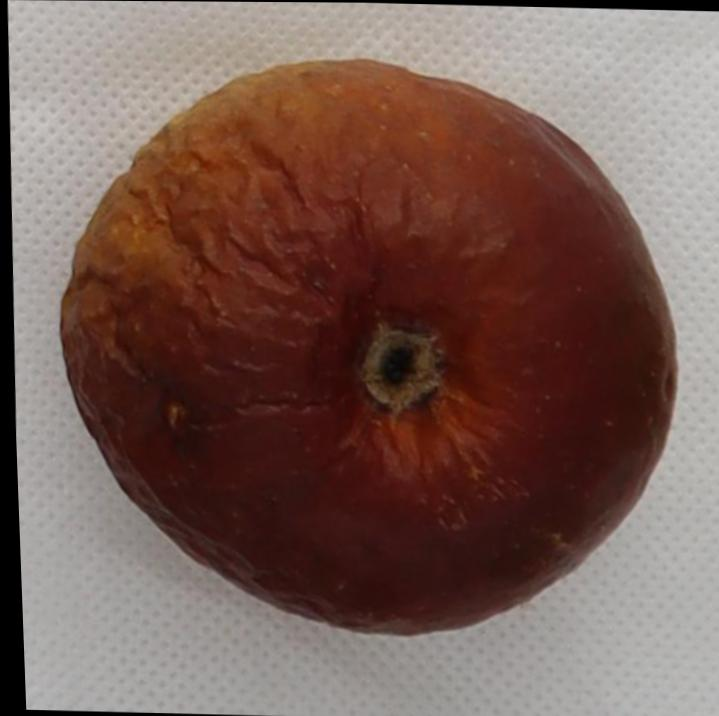apple: (61, 60, 675, 634)
rot_mold_decay: (61, 60, 675, 634)
surface_damage: (166, 401, 185, 426)
